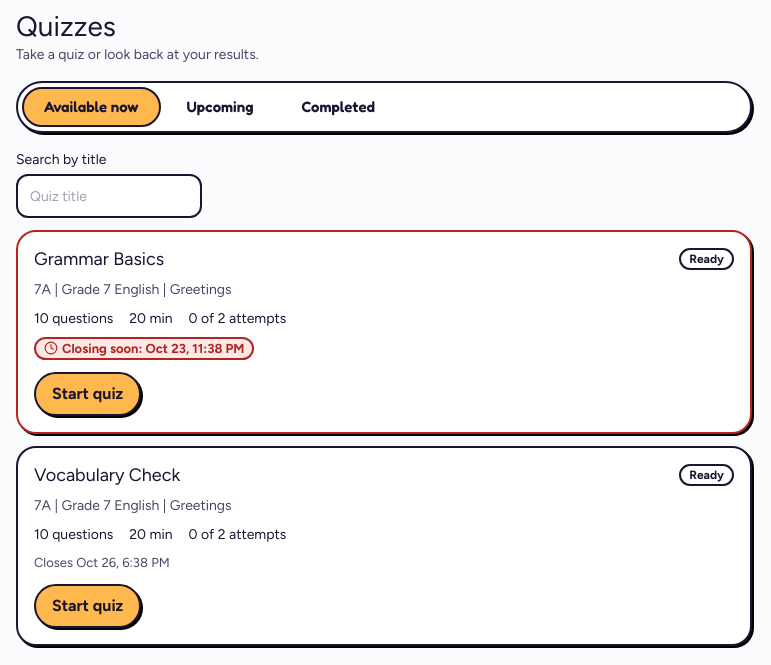
Test: QuizzesHubPage › says so when no quizzes have been taken
This screenshot has width=771, height=665.
Click the tab "Completed". click: [338, 107]
box: [280,87,397,127]
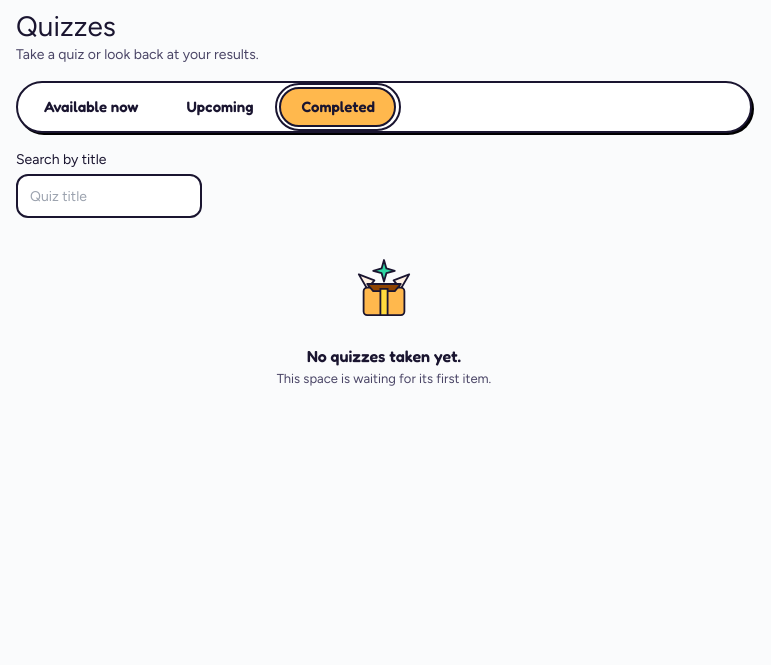
Check: the heading "No quizzes taken yet." is shown, box [307,346,461,366]
